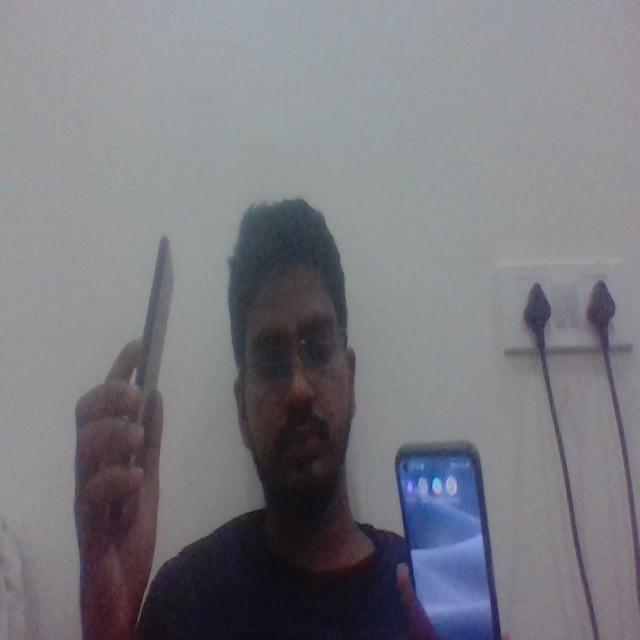Phone: (395, 442, 500, 640), (116, 234, 180, 522)
